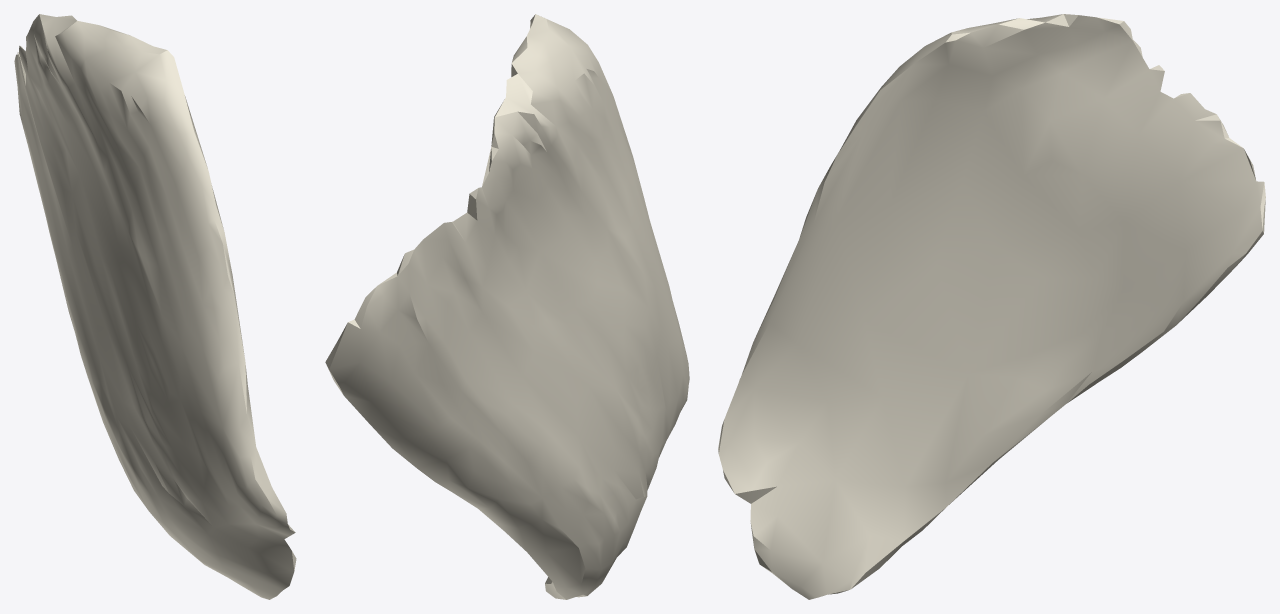
Rendered from fma321704-l_mm1493.glb.
The picture shows the model from 3 angles, left to right: view 1: azimuth 30°, elevation 25°; view 2: azimuth 150°, elevation 25°; view 3: azimuth 270°, elevation 25°; orthographic projection. The views are drawn at different scales.
Visible parts, largest first — view 1: FMA321704-L_MM1493; view 2: FMA321704-L_MM1493; view 3: FMA321704-L_MM1493.
Part boxes in pixels (x1,y1,x2,y2): FMA321704-L_MM1493: (14, 14, 296, 599); FMA321704-L_MM1493: (325, 14, 689, 599); FMA321704-L_MM1493: (718, 14, 1265, 599).
Size of the model in its own units: 0.00183 by 0.00887 by 0.008.
